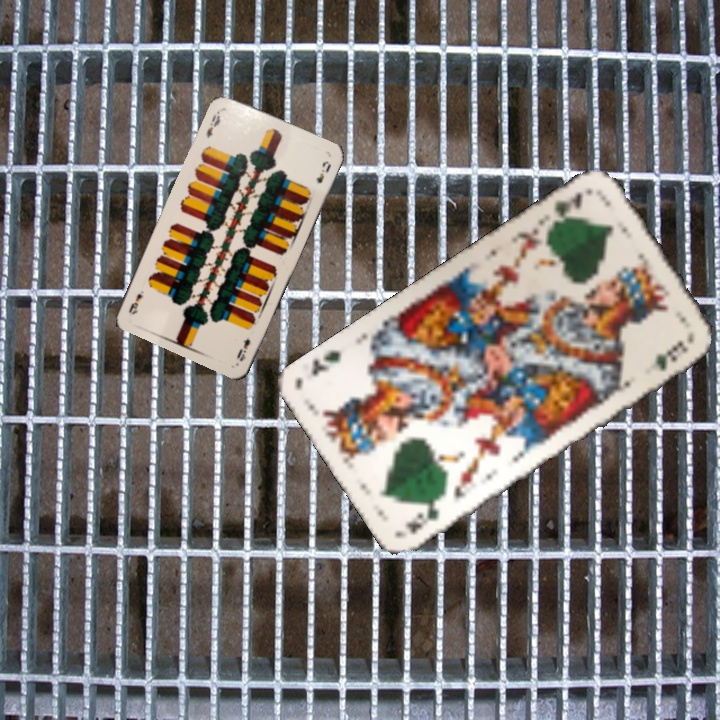E9: (202, 107, 223, 141), (233, 335, 253, 364)
GK: (547, 187, 586, 231), (400, 500, 443, 537)
